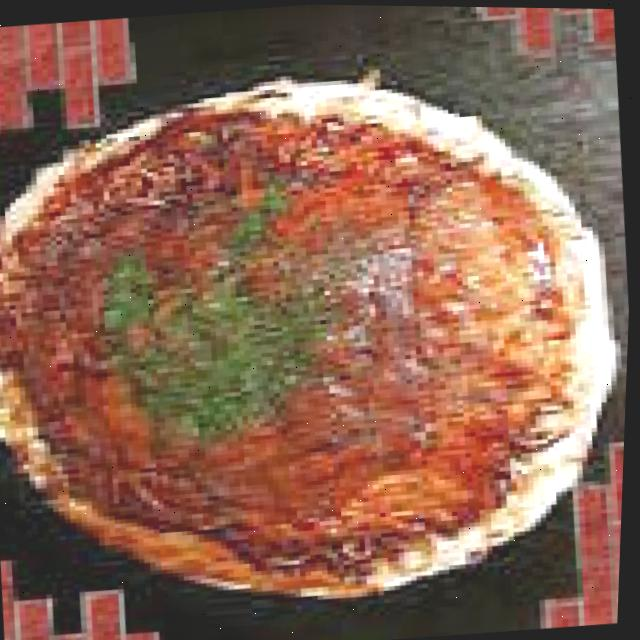蛋糕甜品: (0, 34, 639, 633)
